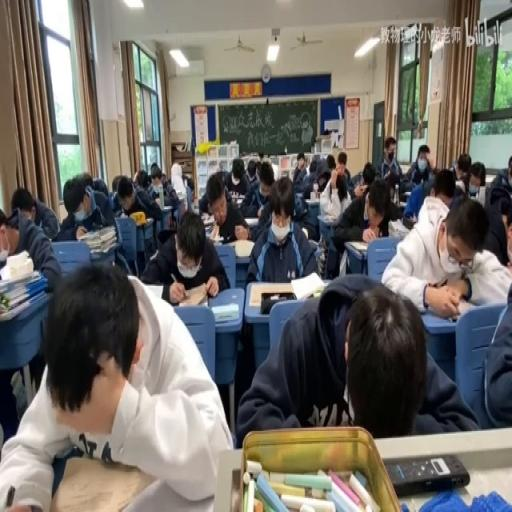calculator: (384, 452, 470, 494), (0, 288, 46, 320), (434, 292, 482, 320), (248, 282, 294, 308), (290, 268, 326, 298), (174, 283, 208, 307), (210, 300, 238, 322), (230, 238, 256, 256), (388, 218, 410, 238), (140, 282, 162, 298), (200, 212, 216, 233), (346, 240, 368, 252), (208, 233, 222, 245), (320, 213, 338, 222), (242, 214, 258, 224), (229, 192, 245, 202), (478, 185, 486, 205), (306, 238, 319, 250), (174, 189, 185, 201), (304, 198, 321, 204), (484, 174, 494, 184), (142, 216, 152, 225), (0, 248, 7, 260), (192, 200, 198, 214), (160, 204, 172, 210), (398, 198, 407, 206), (404, 190, 410, 198)
paper: (2, 260, 228, 511), (236, 269, 474, 439), (381, 192, 509, 313), (142, 206, 228, 302), (244, 174, 318, 283), (331, 173, 399, 266), (0, 192, 60, 296), (479, 272, 512, 430), (54, 172, 116, 242), (145, 160, 181, 214), (401, 142, 434, 195), (486, 155, 512, 212), (378, 135, 402, 189), (222, 158, 250, 199), (296, 155, 322, 199), (429, 168, 455, 208), (332, 152, 350, 184), (258, 164, 274, 194), (469, 162, 485, 189), (293, 191, 308, 219), (74, 172, 92, 192), (133, 168, 149, 189), (246, 156, 259, 180), (457, 156, 470, 180), (362, 164, 374, 188), (350, 170, 364, 190), (317, 175, 328, 192), (325, 154, 335, 172), (112, 174, 122, 192), (184, 176, 194, 192), (160, 171, 166, 186), (388, 184, 394, 199)
